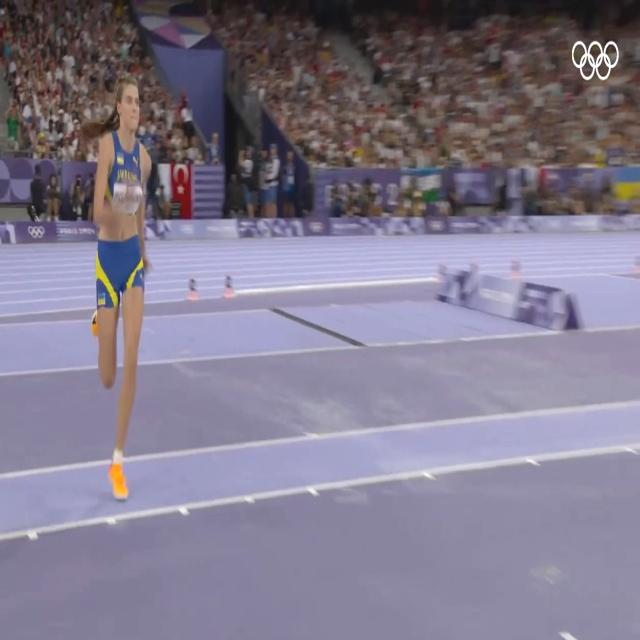run: (91, 76, 160, 502)
